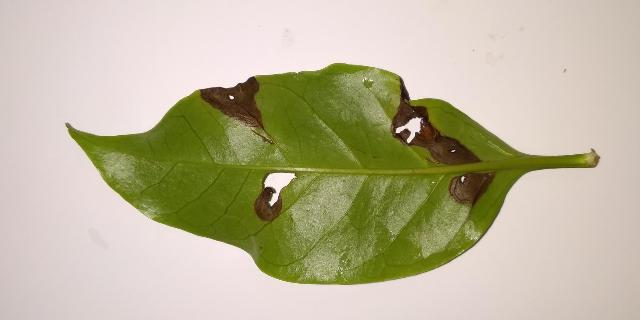rust: (391, 77, 481, 166), (200, 77, 264, 129), (448, 172, 496, 206), (254, 174, 282, 221)
